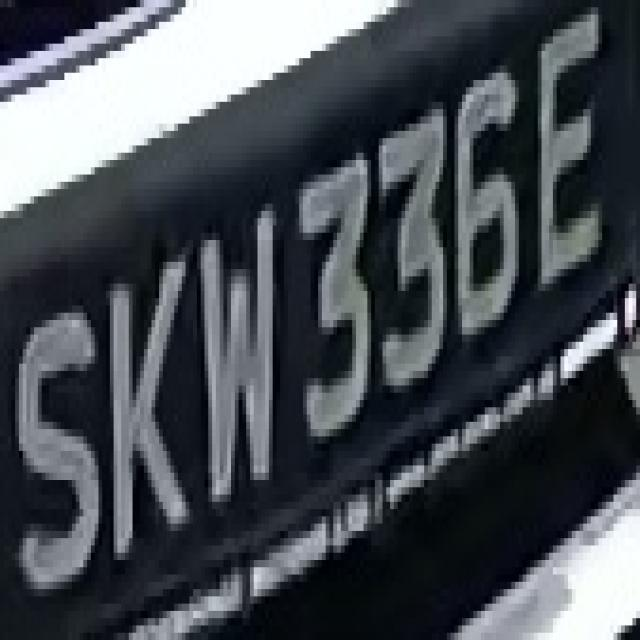3: (364, 87, 451, 415), (288, 146, 379, 458)
6: (439, 51, 526, 364)
E: (530, 7, 617, 313)
K: (102, 248, 197, 596)
S: (11, 254, 106, 626)
W: (193, 196, 292, 538)
